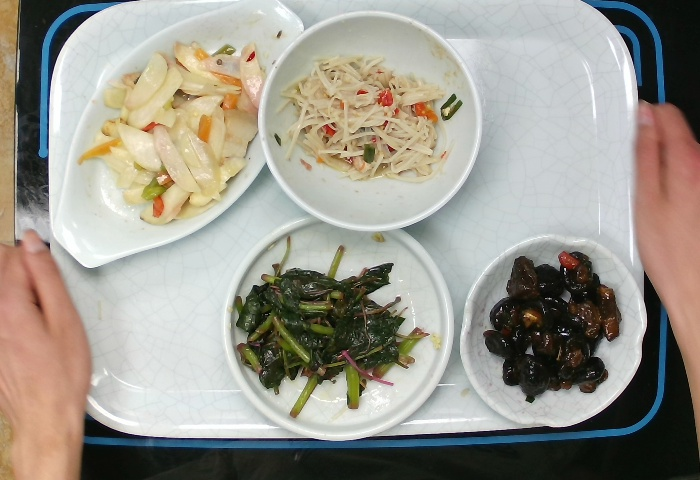JYsf-Ao_Yuan_Wan: (455, 231, 652, 426)
JYsf-Fan_Wan: (256, 6, 484, 235)
JYsf-Xiao_Yuan_Pan: (219, 212, 454, 441)
JYsf-Yu_Pan: (54, 2, 311, 271)
